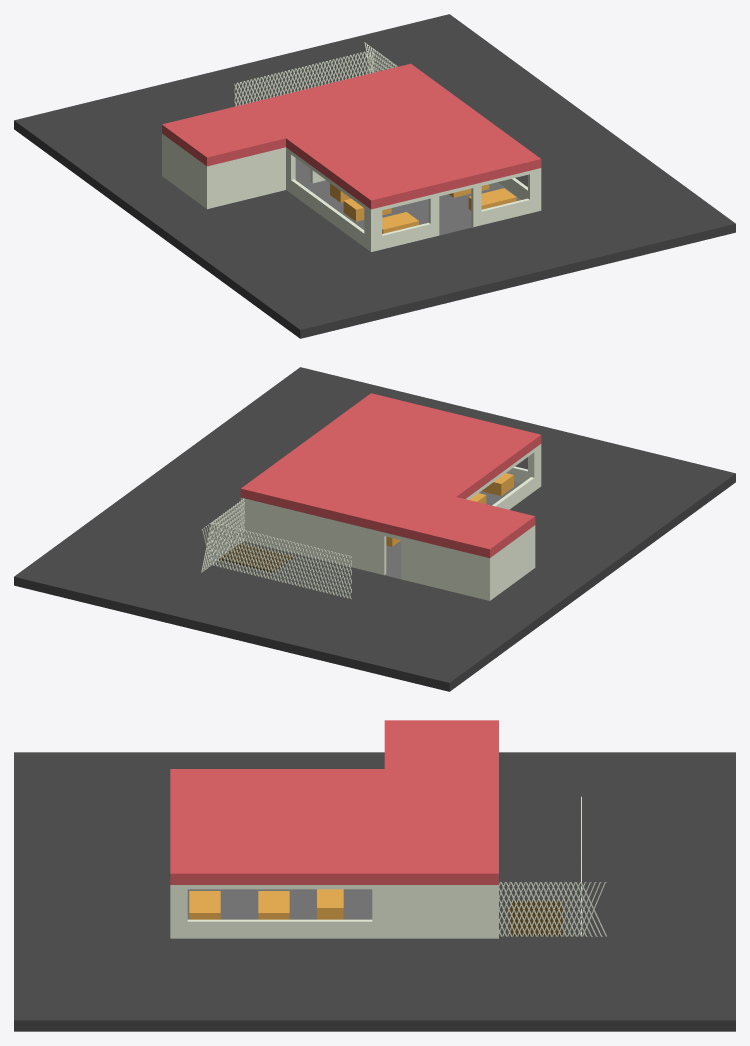
File: restaurant_furnishing1.glb
3 views of the same model, one above another, from view 1: azimuth 30°, elevation 25°; view 2: azimuth 150°, elevation 25°; view 3: azimuth 270°, elevation 25° (orthographic). The views are drawn at different scales.
Parts seen in each view (by area): view 1: ground, roof, front_wall, manager_front, floor, back_fence, left_wall, managaer_side, table2, table; view 2: ground, roof, back_wall, back_fence, manager_back, managaer_side, back_fence.001, left_wall, stock_platform, floor; view 3: ground, roof, right_wall, back_fence.001, floor, stock_platform, table2, table, order_counter.
Part boxes in pixels (x1,y1,x2,y2): ground: (14, 14, 735, 338); roof: (162, 63, 541, 209); front_wall: (369, 168, 541, 251); manager_front: (205, 147, 285, 209); floor: (295, 158, 521, 235); back_fence: (234, 49, 374, 106); left_wall: (286, 147, 368, 250); managaer_side: (163, 135, 205, 207); table2: (382, 188, 516, 233); table: (343, 184, 489, 221); ground: (14, 367, 735, 691); roof: (240, 393, 541, 558); back_wall: (240, 497, 410, 581); back_fence: (211, 522, 351, 599); manager_back: (411, 539, 491, 600); managaer_side: (492, 527, 533, 598); back_fence.001: (201, 498, 244, 572); left_wall: (465, 445, 539, 509); stock_platform: (219, 543, 294, 572); floor: (385, 481, 521, 579); ground: (14, 752, 735, 1031); roof: (170, 720, 498, 884); right_wall: (175, 885, 493, 938); back_fence.001: (499, 882, 606, 936); floor: (187, 889, 372, 919); stock_platform: (509, 901, 562, 936); table2: (189, 891, 220, 919); table: (258, 891, 289, 919); order_counter: (317, 889, 343, 919).
Size of the model in its own units: 25.59 by 3.4 by 29.14.
